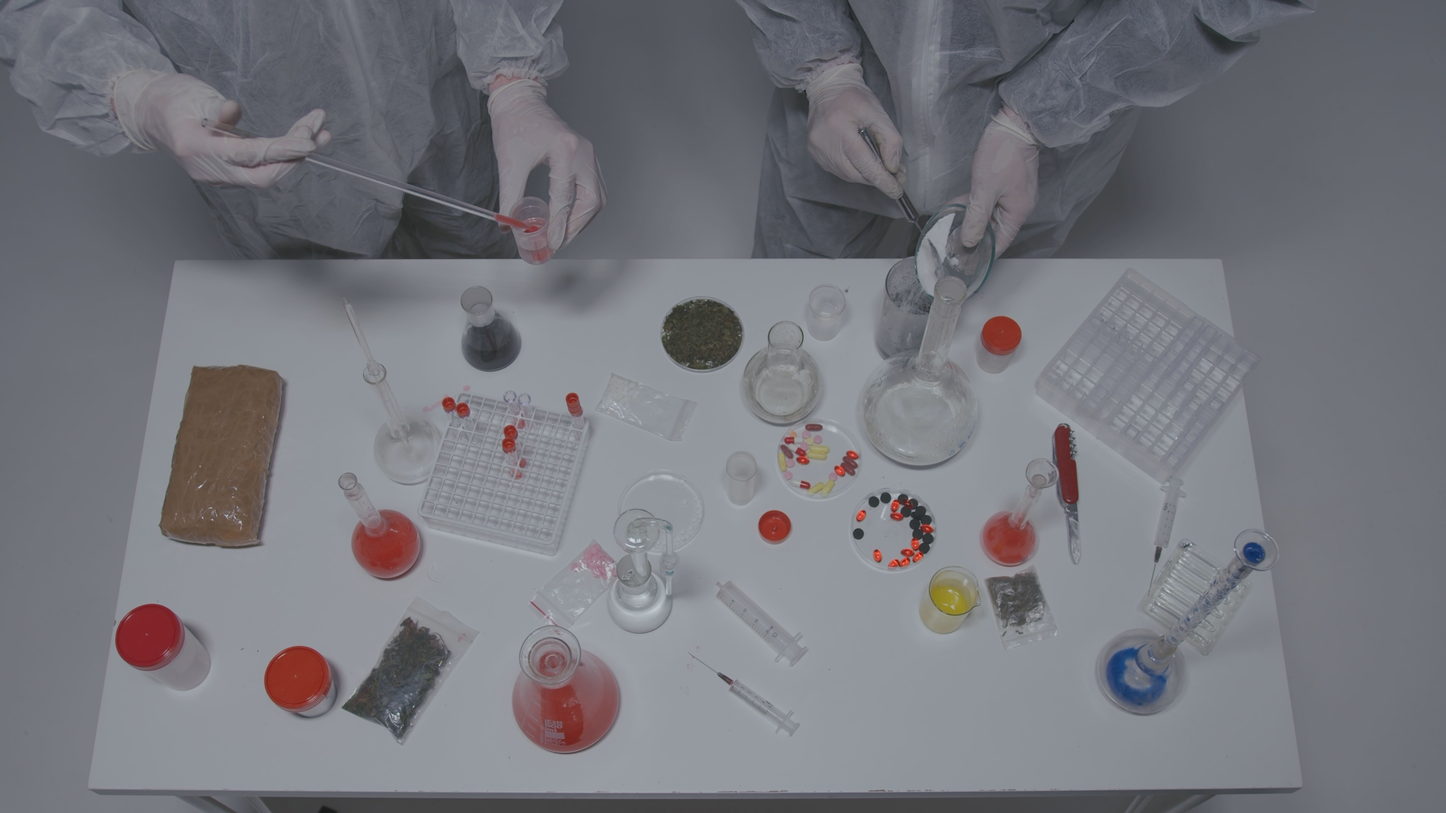gloves: (109, 46, 347, 203), (460, 49, 618, 266), (790, 48, 919, 207), (957, 84, 1047, 276)
